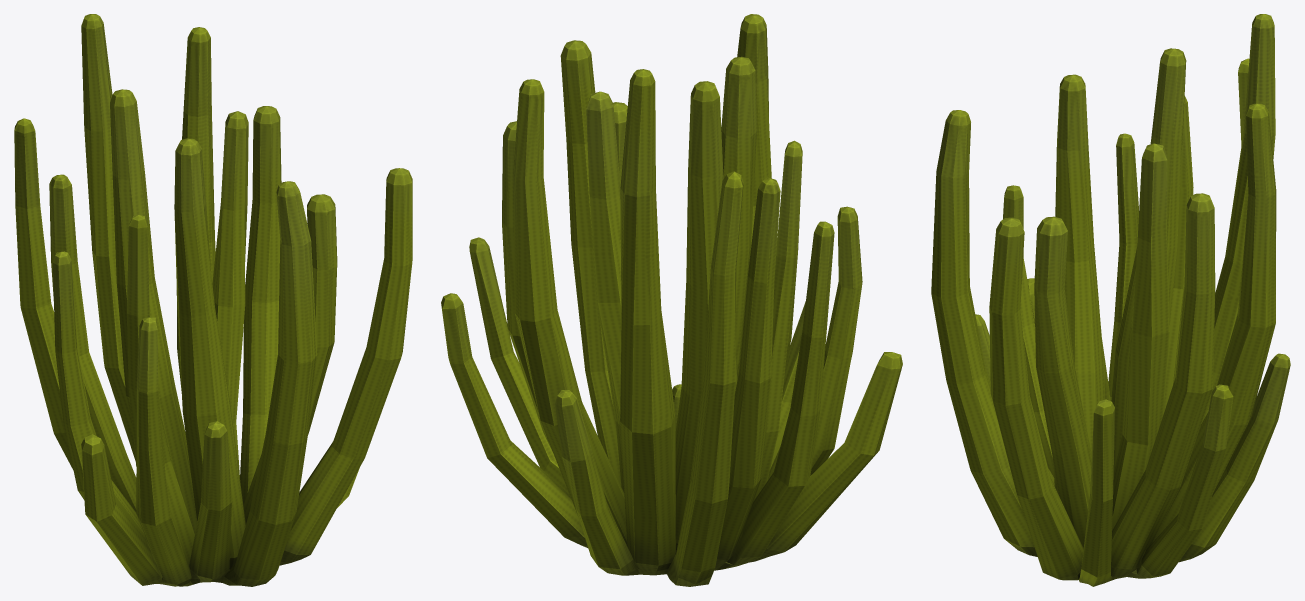
The model's file is PipeOrganCactus.gltf.
The picture shows the model from 3 angles, left to right: view 1: azimuth 30°, elevation 25°; view 2: azimuth 150°, elevation 25°; view 3: azimuth 270°, elevation 25°; orthographic projection. The views are drawn at different scales.
Parts seen in each view (by area): view 1: node-0; view 2: node-0; view 3: node-0.
Boxes of the visible parts, x1,y1,x2,y2 form: node-0: (14, 14, 412, 586); node-0: (441, 14, 902, 586); node-0: (931, 14, 1290, 586).
Size of the model in its own units: 3.94 by 5.29 by 3.34.
Materials: 1 (1 with a texture image).
